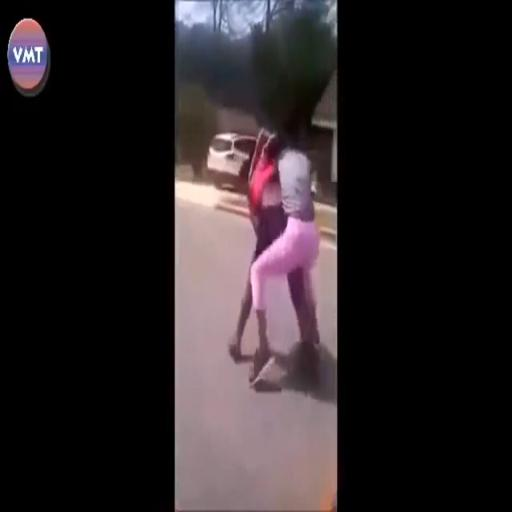violencia: (222, 106, 334, 402)
